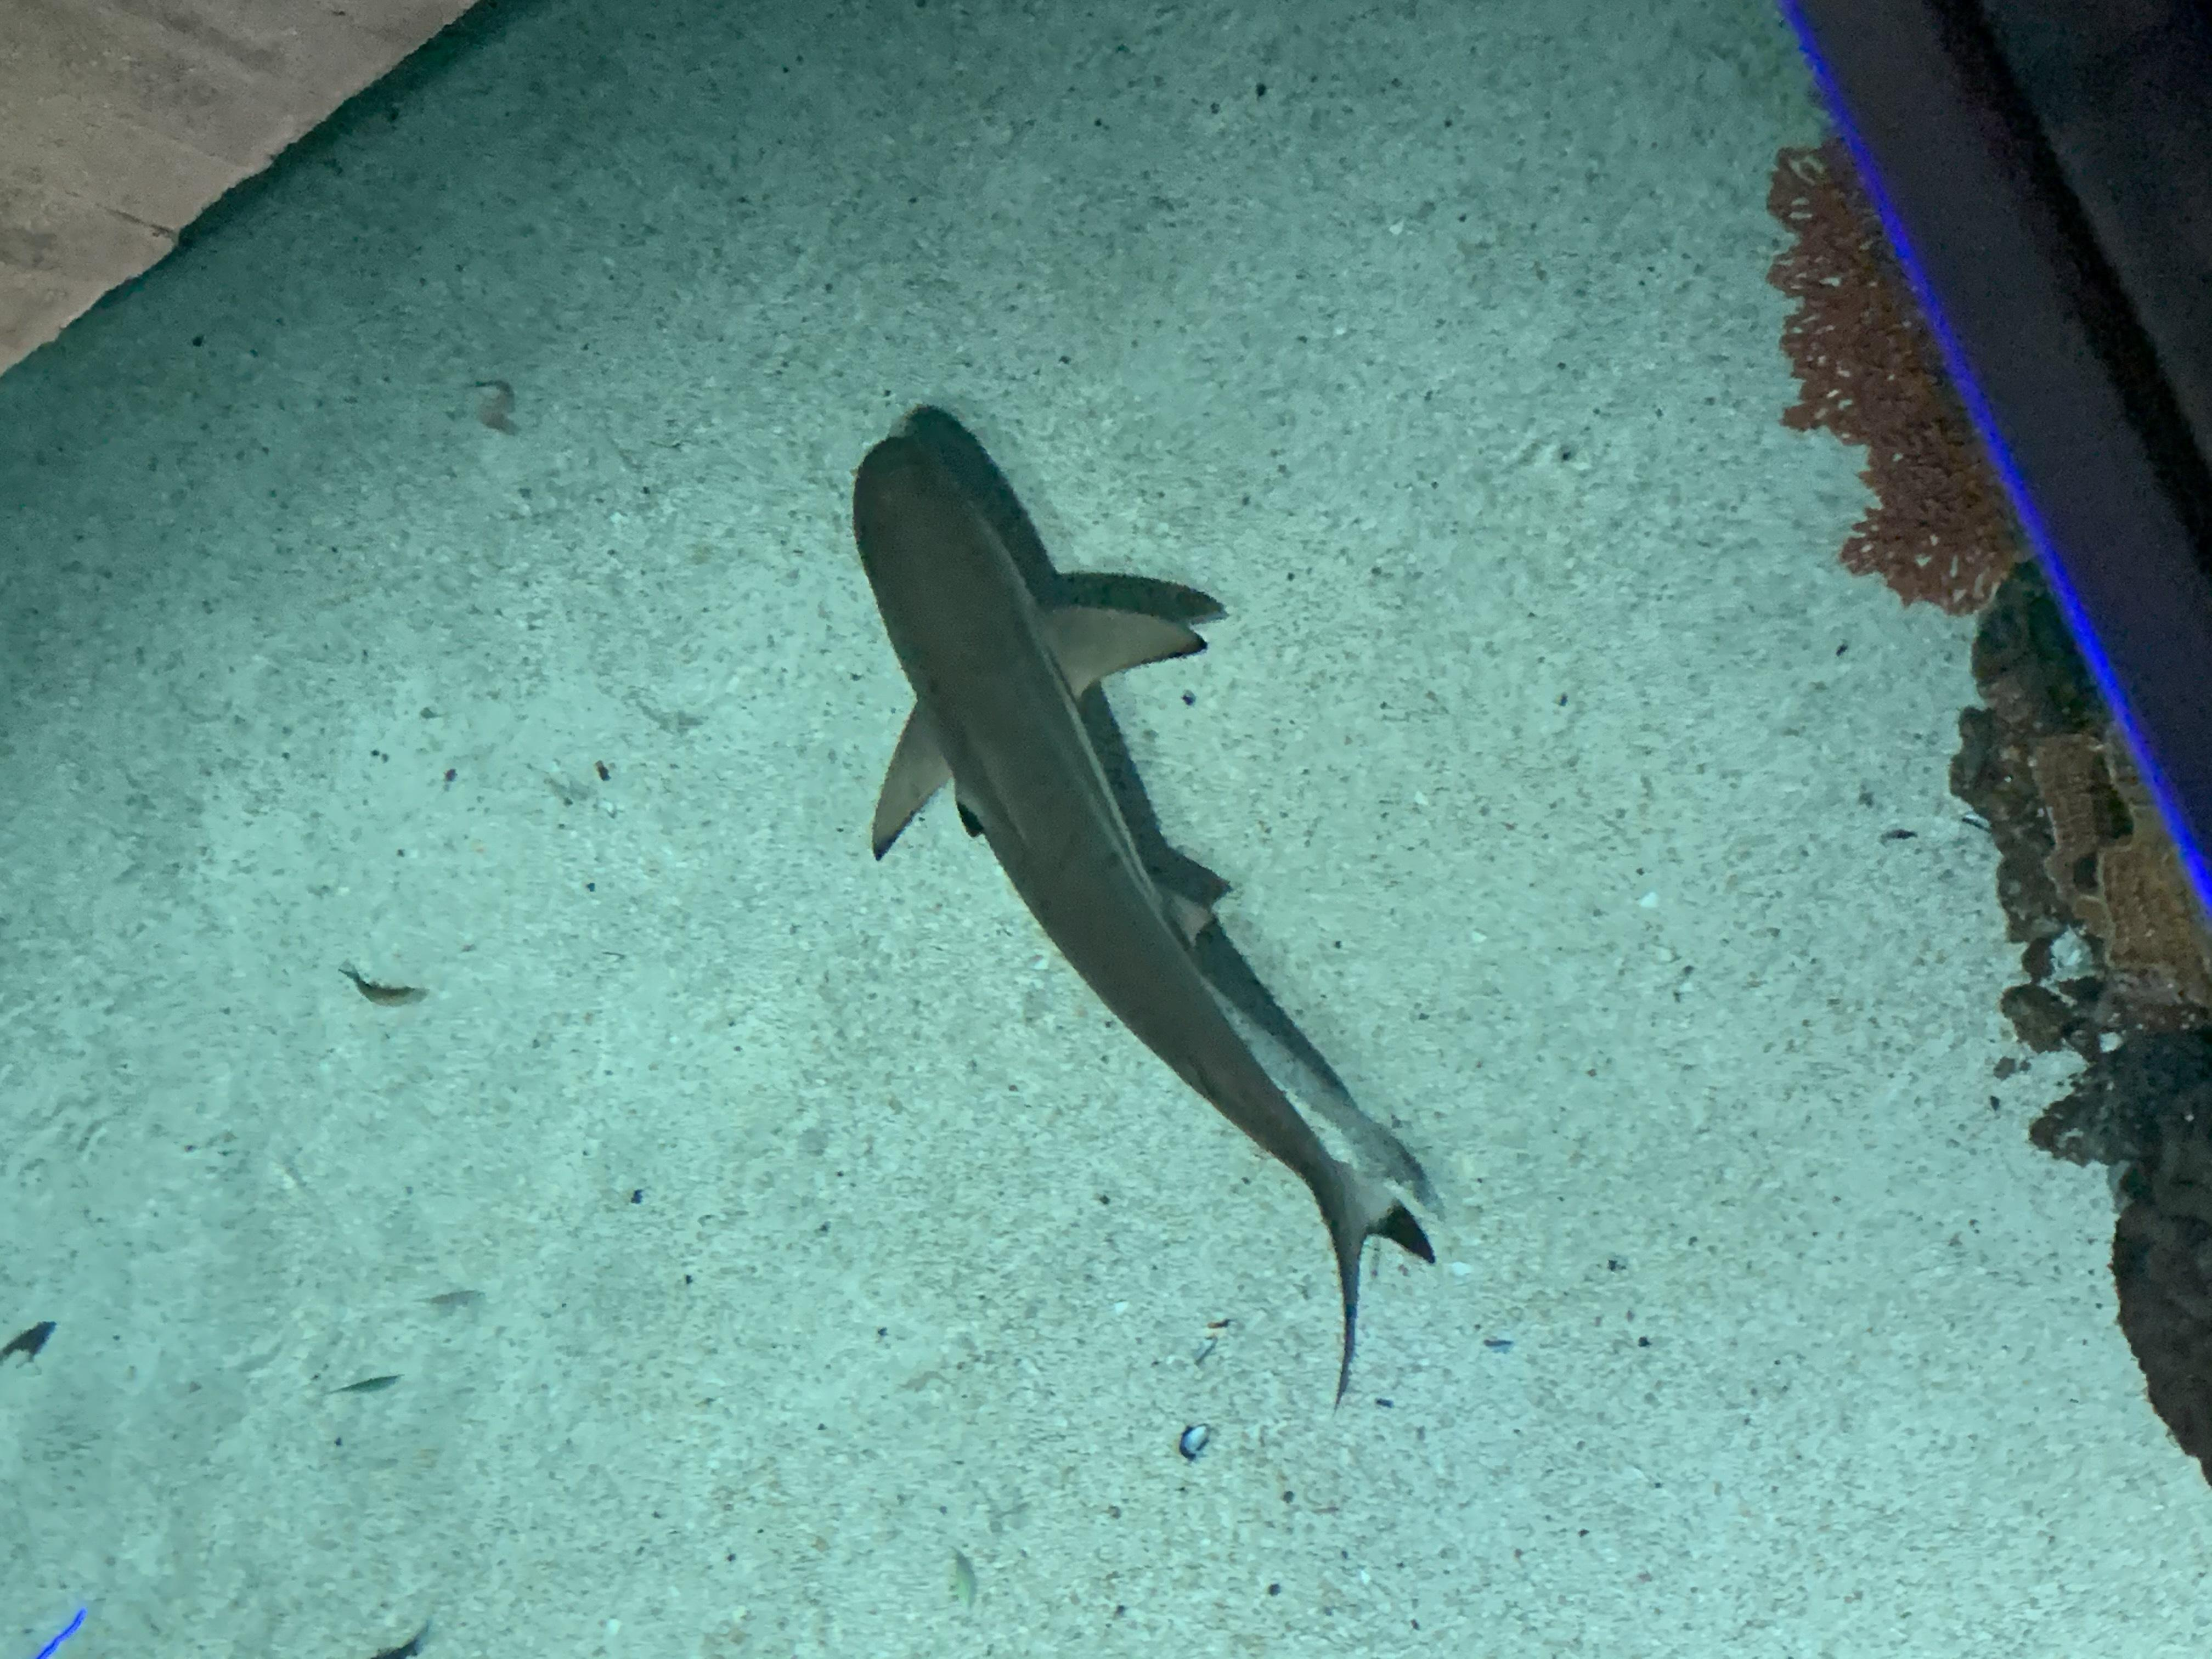shark: (852, 427, 1433, 1417)
